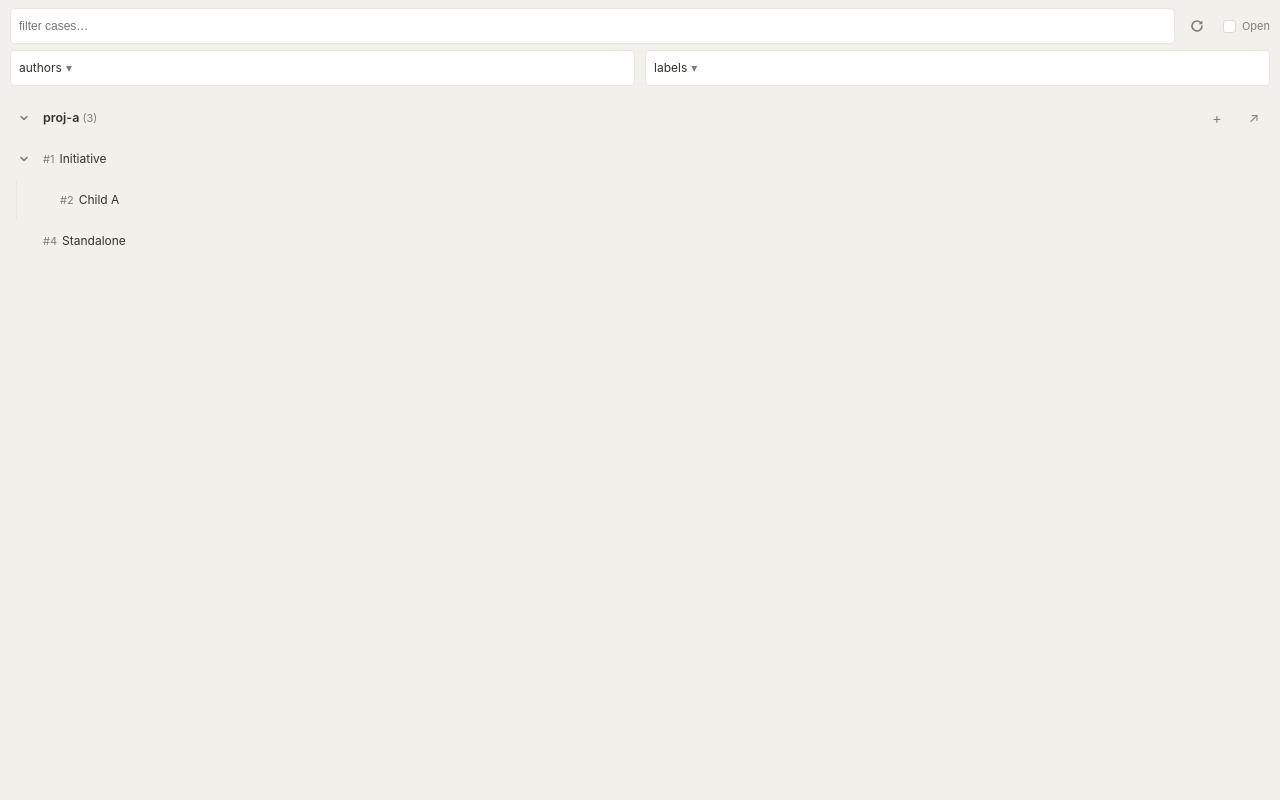
Scenario: SidenavComponent › only one picker (#947) is open at a time, and a click elsewhere closes it
Click the button with class "author-picker-button" at (40, 68), box [10, 50, 635, 86]
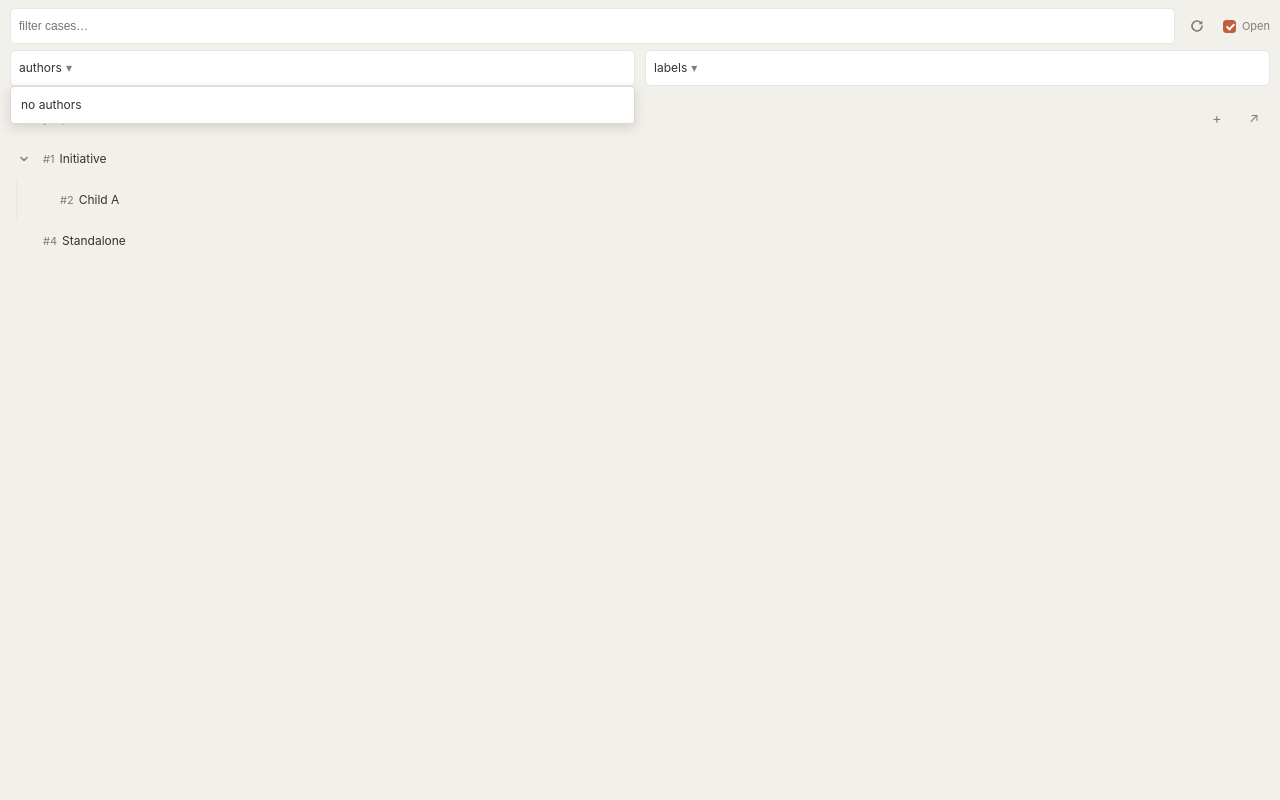
Now the element with class "author-picker" is shown, box [10, 86, 635, 124]
Click the button with class "label-picker-button" at (671, 68), box [645, 50, 1270, 86]
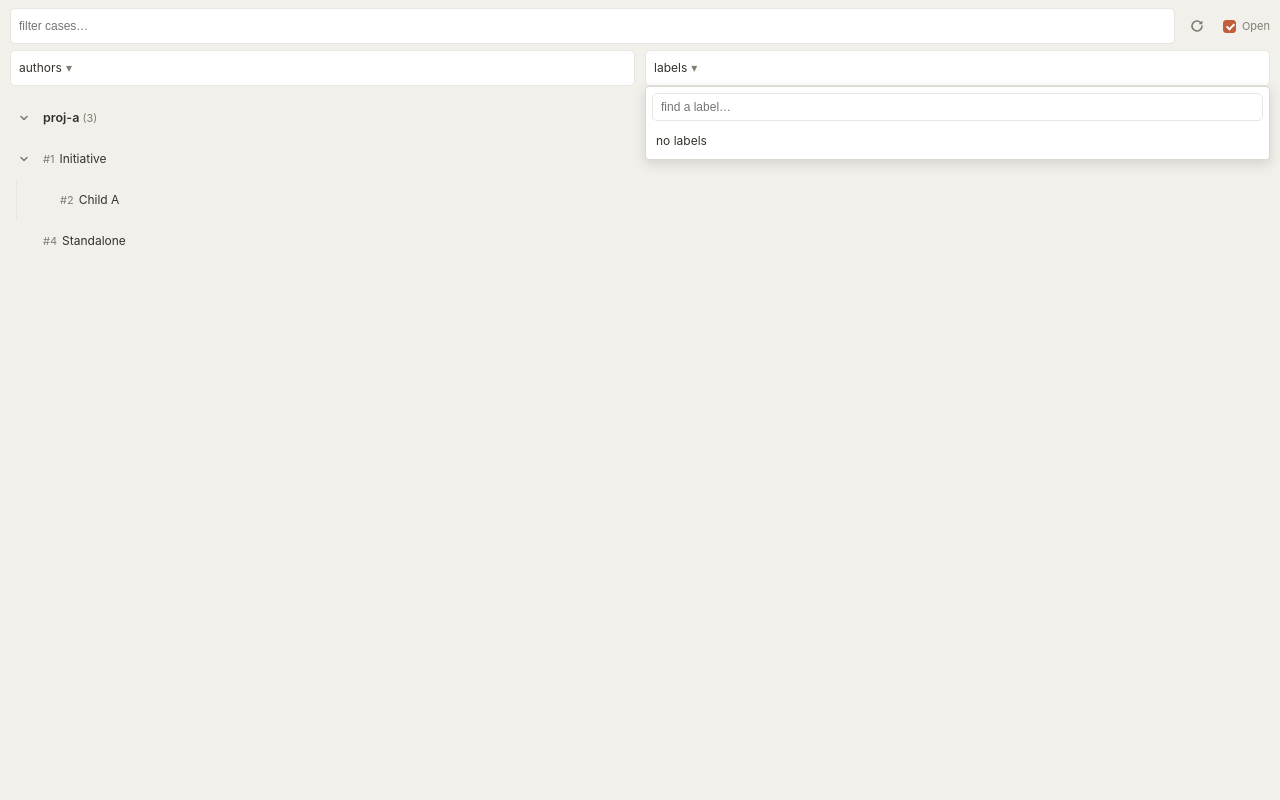
Now the element with class "author-picker" is gone
Now the element with class "label-picker" is shown, box [645, 86, 1270, 160]
Click the element that starts with "Open" at (640, 400), box [0, 0, 1279, 799]
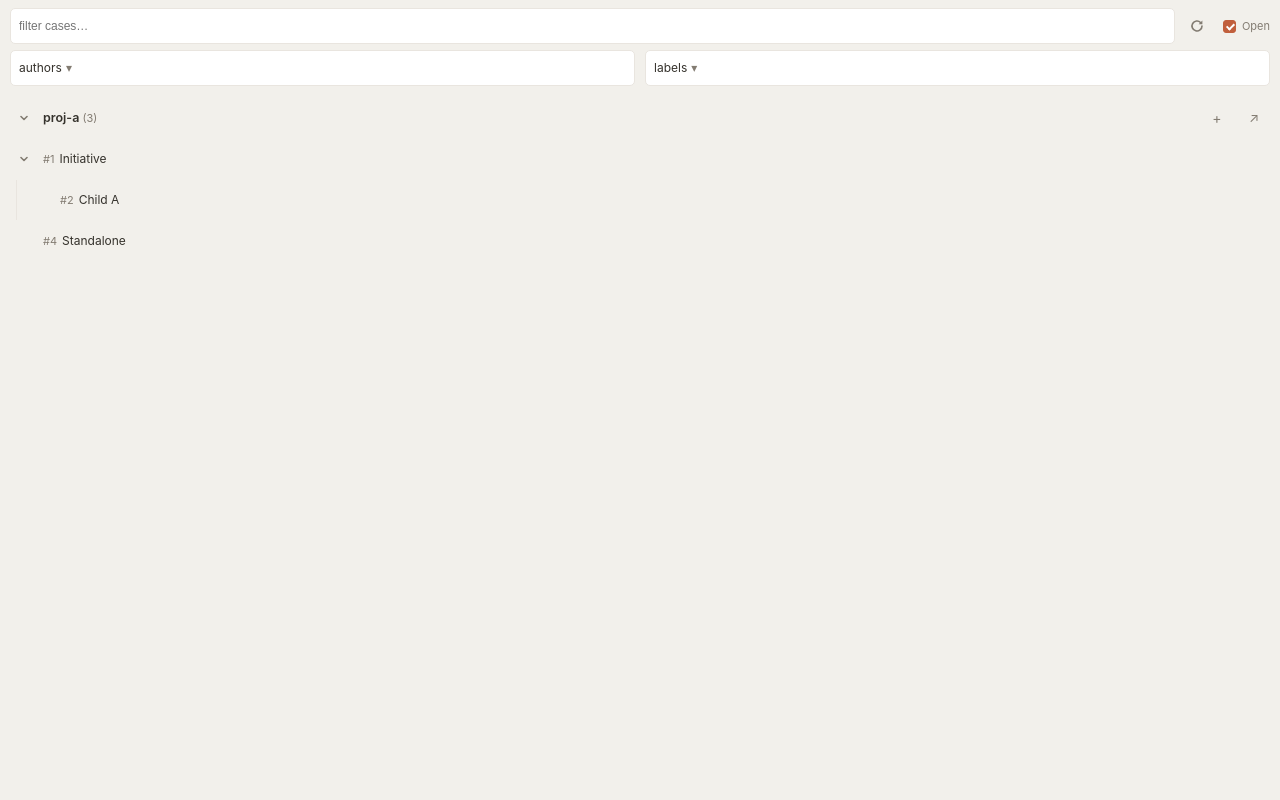
Now the element with class "label-picker" is gone
